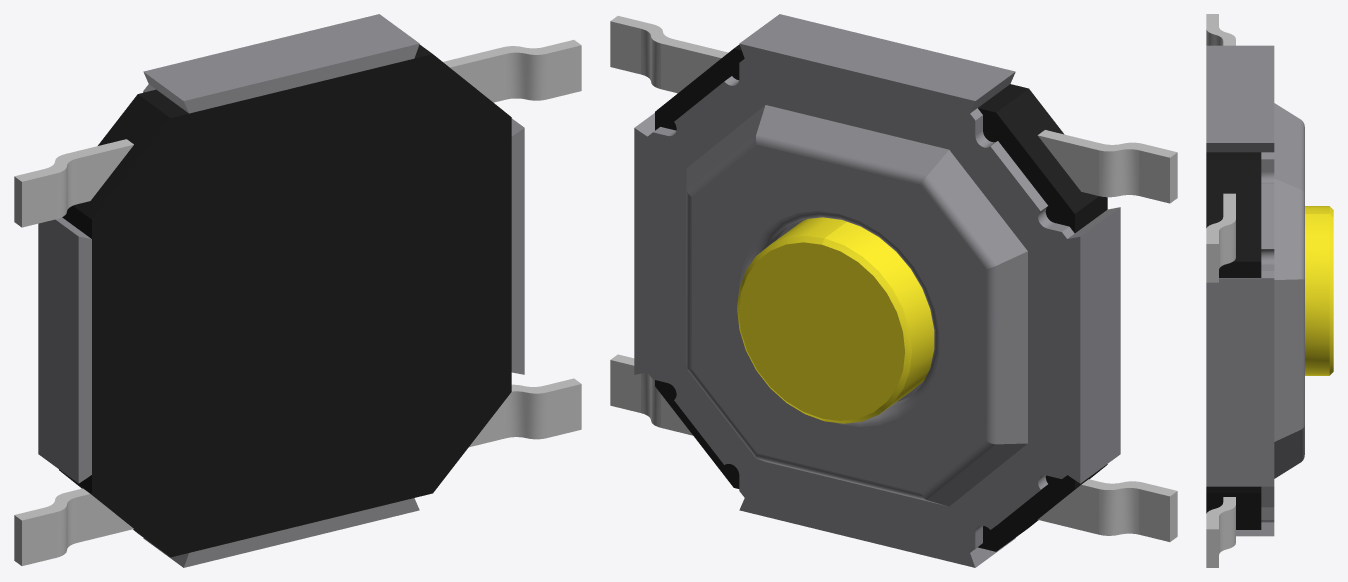
File: sfe-tactile_switch_5.2x5.2mm_h1.9mm.glb
3 renders of one model, left to right at view 1: azimuth 30°, elevation 25°; view 2: azimuth 150°, elevation 25°; view 3: azimuth 270°, elevation 25°, orthographic. The views are drawn at different scales.
Visible parts, largest first — view 1: 0_0_0_0, 0.25_0.25_0.3333333333333333_0, 0.5833333333333334_0.5833333333333334_0.5833333333333334_0.8; view 2: 0.25_0.25_0.3333333333333333_0, 1_0.8333333333333334_0_0, 0.5833333333333334_0.5833333333333334_0.5833333333333334_0.8, 0_0_0_0; view 3: 0.25_0.25_0.3333333333333333_0, 0_0_0_0, 1_0.8333333333333334_0_0, 0.5833333333333334_0.5833333333333334_0.5833333333333334_0.8.
Part boxes in pixels (box(x1,y1,x2,y2)): 0_0_0_0: box(59, 44, 511, 557); 0.25_0.25_0.3333333333333333_0: box(38, 14, 524, 567); 0.5833333333333334_0.5833333333333334_0.5833333333333334_0.8: box(14, 40, 581, 565); 0.25_0.25_0.3333333333333333_0: box(634, 14, 1120, 567); 1_0.8333333333333334_0_0: box(737, 217, 934, 423); 0.5833333333333334_0.5833333333333334_0.5833333333333334_0.8: box(610, 16, 1177, 541); 0_0_0_0: box(655, 44, 1107, 551); 0.25_0.25_0.3333333333333333_0: box(1206, 45, 1304, 536); 0_0_0_0: box(1206, 152, 1261, 529); 1_0.8333333333333334_0_0: box(1305, 206, 1333, 375); 0.5833333333333334_0.5833333333333334_0.5833333333333334_0.8: box(1206, 14, 1235, 567).
Size of the model in its own units: 0.64 by 0.51 by 0.15.
